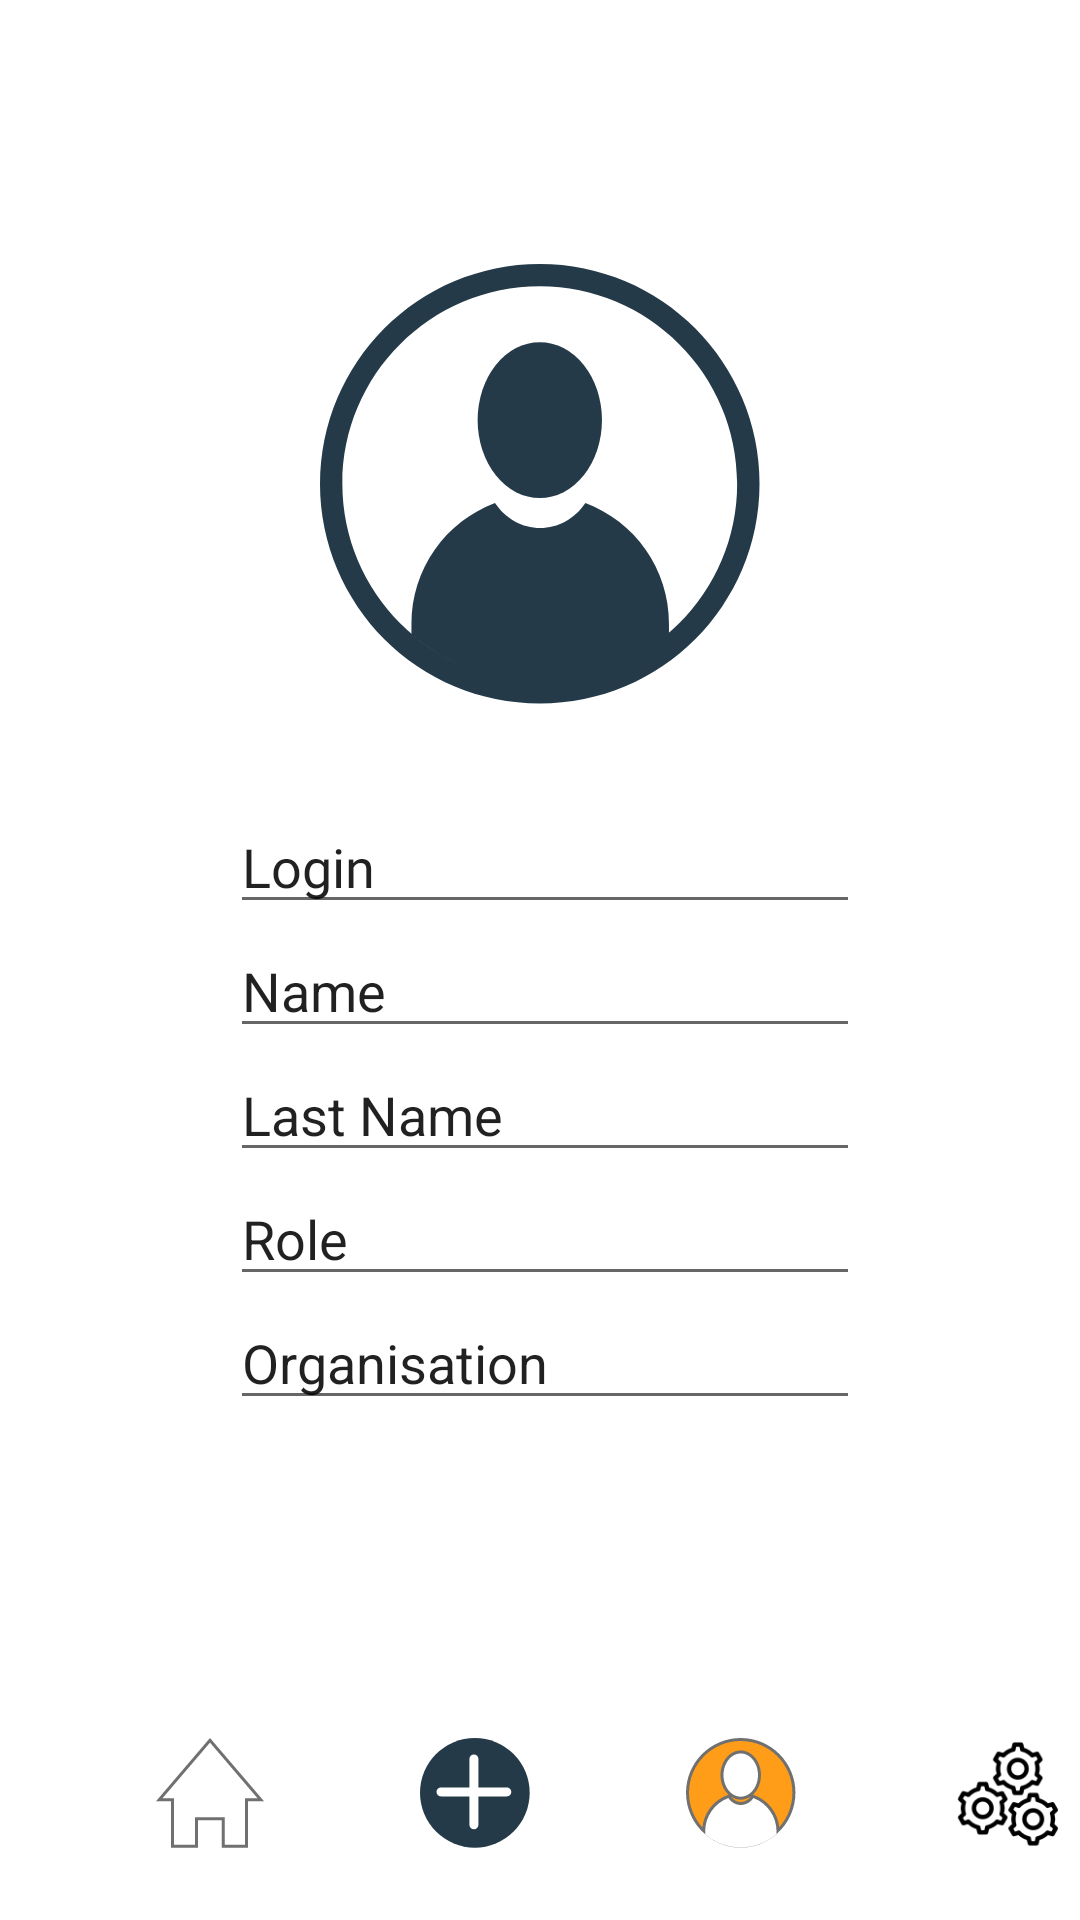

Icon bounding boxes for this 1080px x 1920px phone screenshot, format (x1, y1, x2, y2):
add: (420, 1738, 530, 1848)
home: (156, 1738, 264, 1848)
profile: (686, 1738, 796, 1848)
settings: (957, 1742, 1058, 1846)
